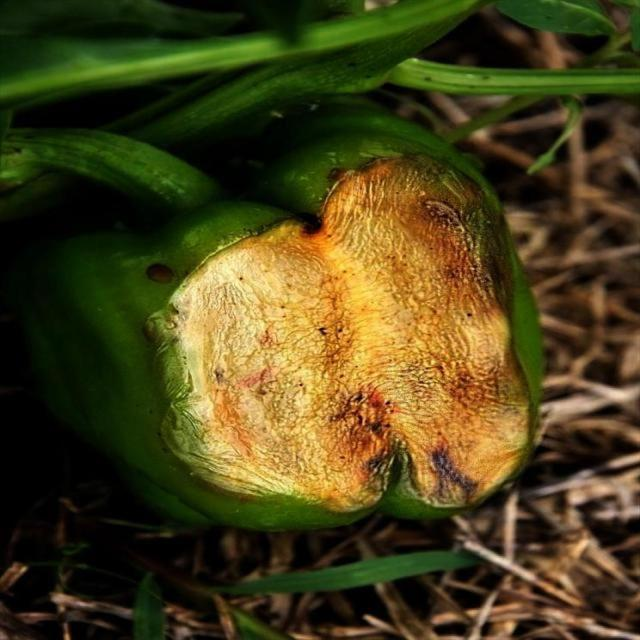Sunscald Fruit: (82, 108, 369, 338)
